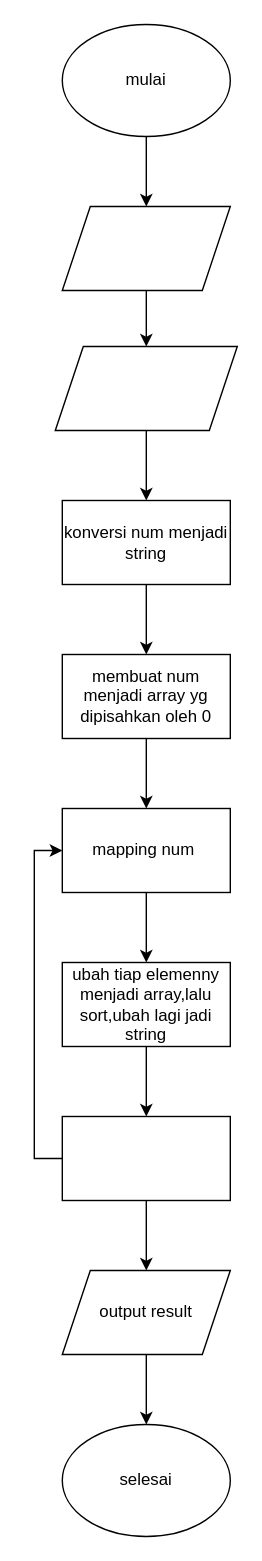
Some shapes in this 262 by 1561 pixel diagram are drawn without their labels. Each missing label, with the centre of its shape:
inisialisasi result="": pixel 145 387
input num: pixel 145 247
masukkan perubahanny ke dalam result: pixel 145 1157
